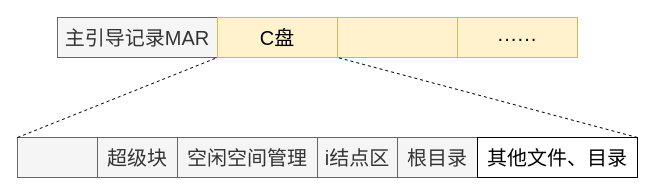
The diagram is 656 pixels wide and 195 high, and some of its shapes have lost their labels. Here are the shapes that lost their labels. From the top down, the box of each, then its label:
(336, 16, 458, 58): D盘
(16, 136, 98, 178): 引导块
